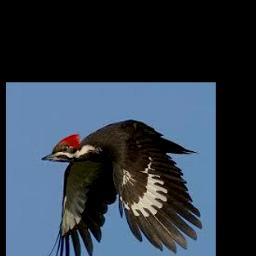Woodpecker: (42, 119, 202, 256)
